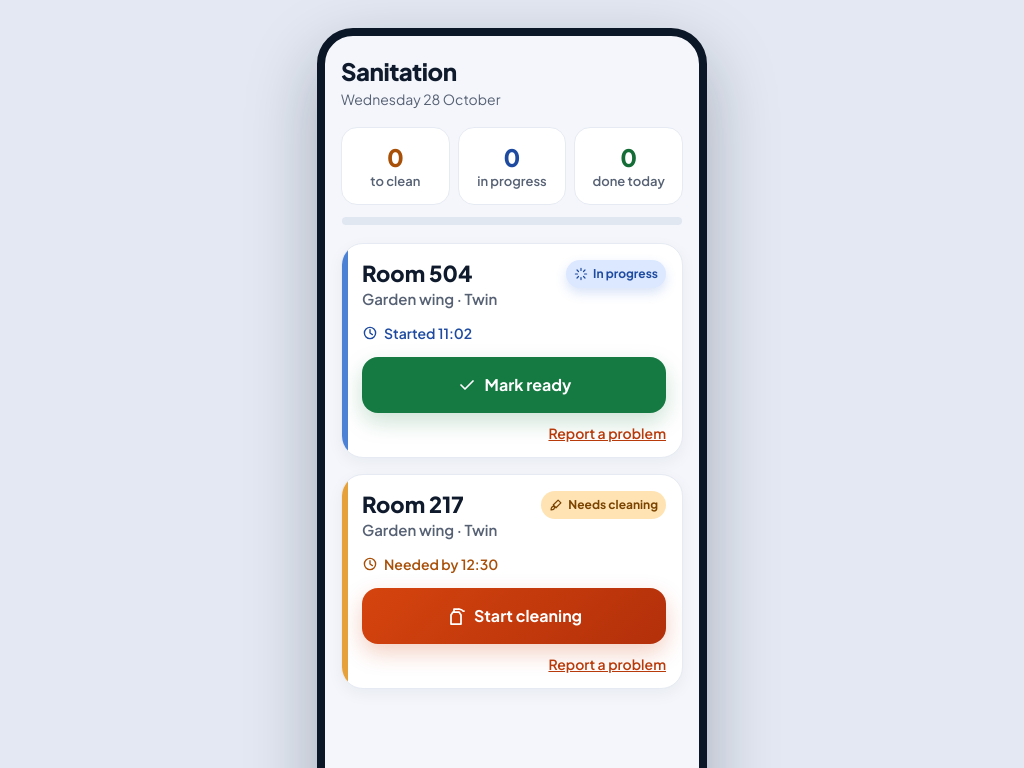
Test: HousekeepingScreen › starts a room, and marks it ready after confirming, with Undo
Click the button "Start cleaning" at (514, 616), box [362,588,666,644]
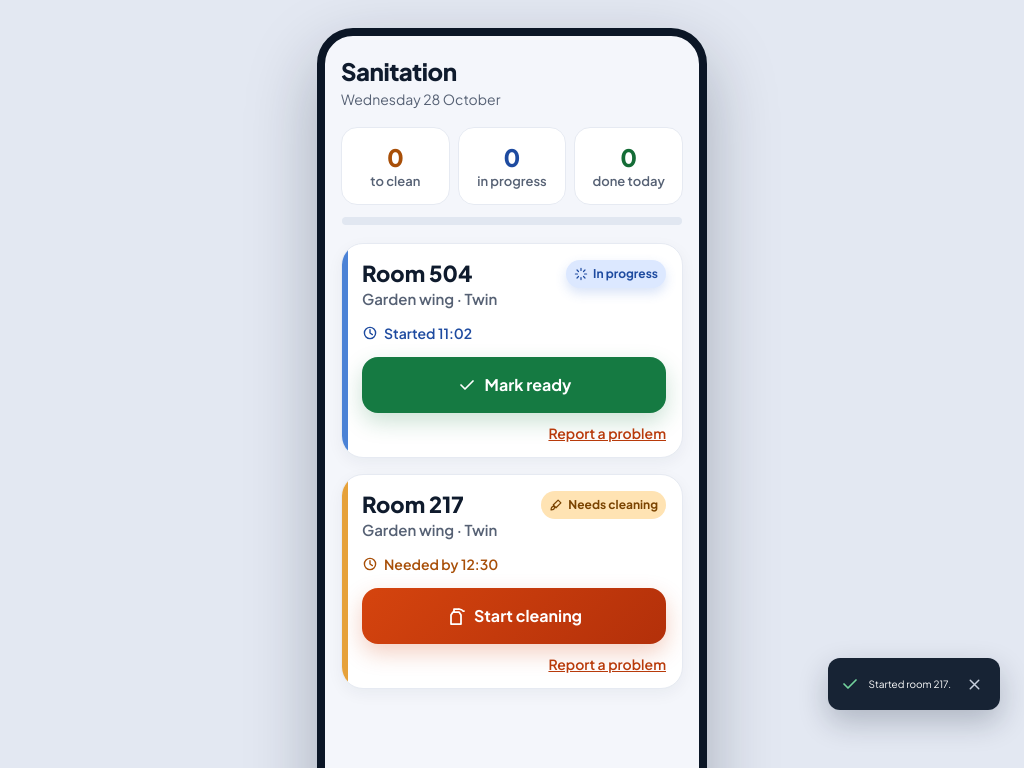
Check: the text "Started room 217." is shown, box [869,674,951,694]
Click the button "Mark ready" at (514, 385), box [362,357,666,413]
(page scrolled)
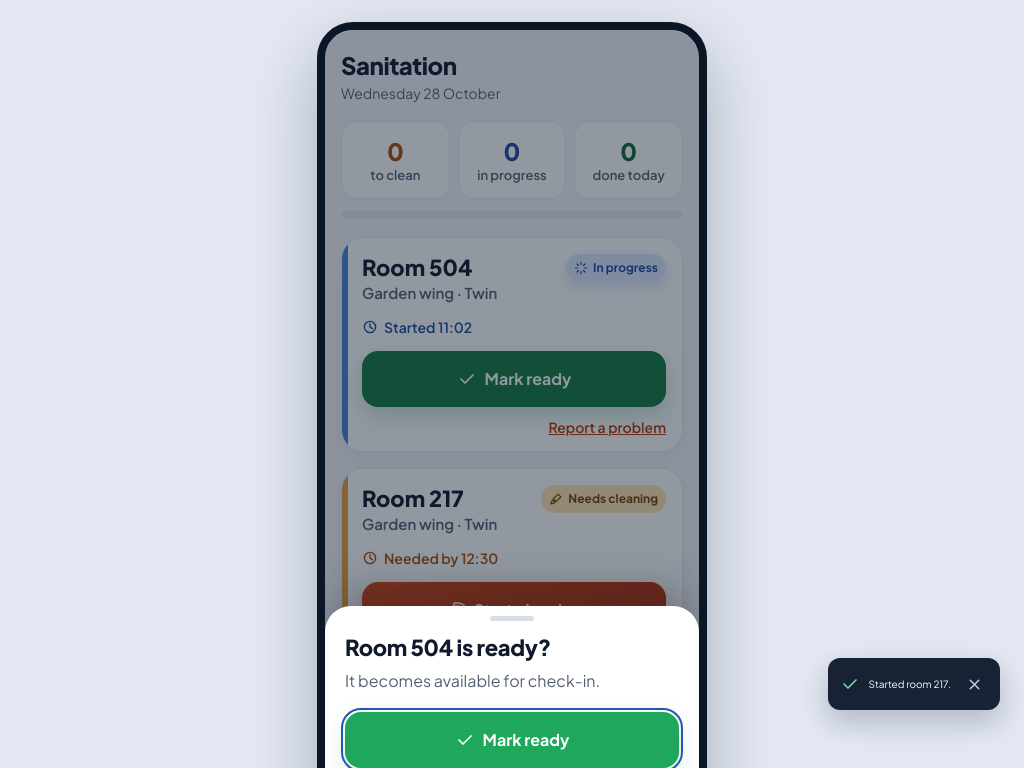
Click the button "Mark ready" at (512, 740), box [345,712,679,767]
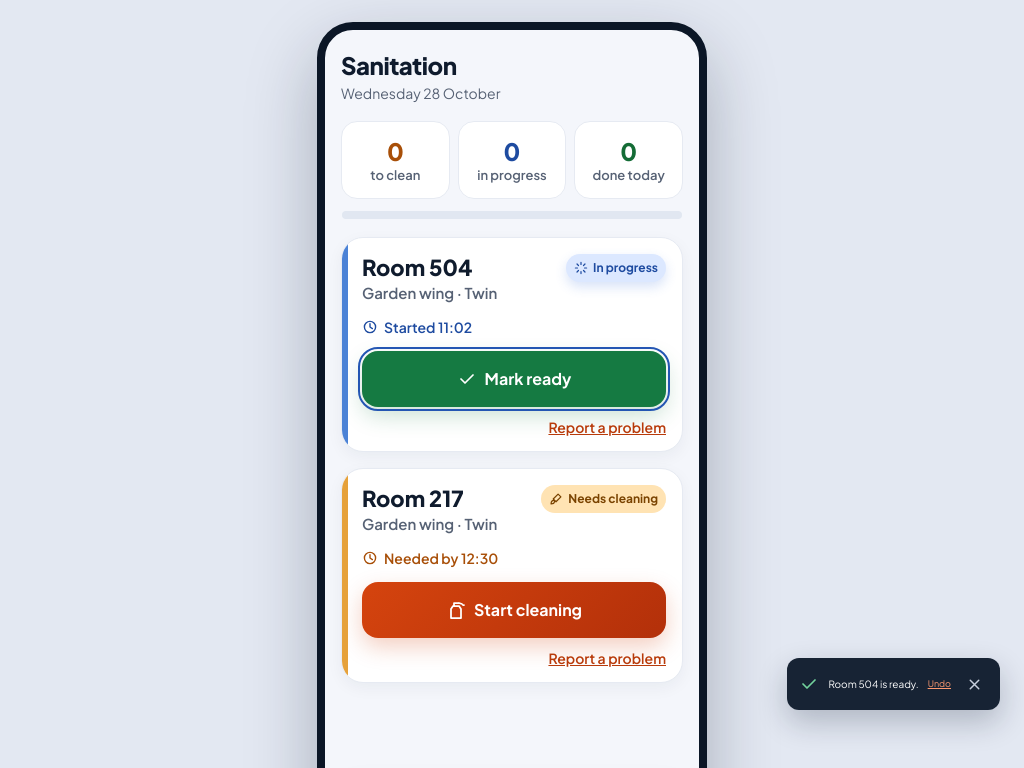
Check: the text "Room 504 is ready." is shown, box [828,674,919,694]
Click the button "Undo" at (939, 684), box [928,674,951,694]
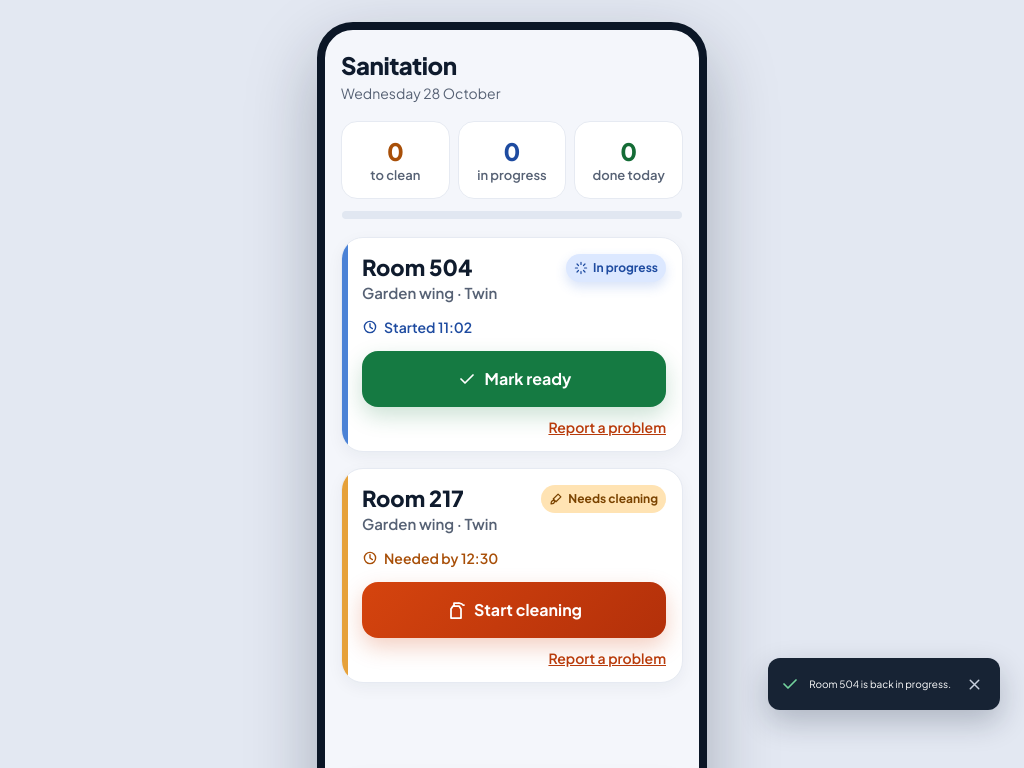
Check: the text "Room 504 is back in progress." is shown, box [809,674,951,694]
